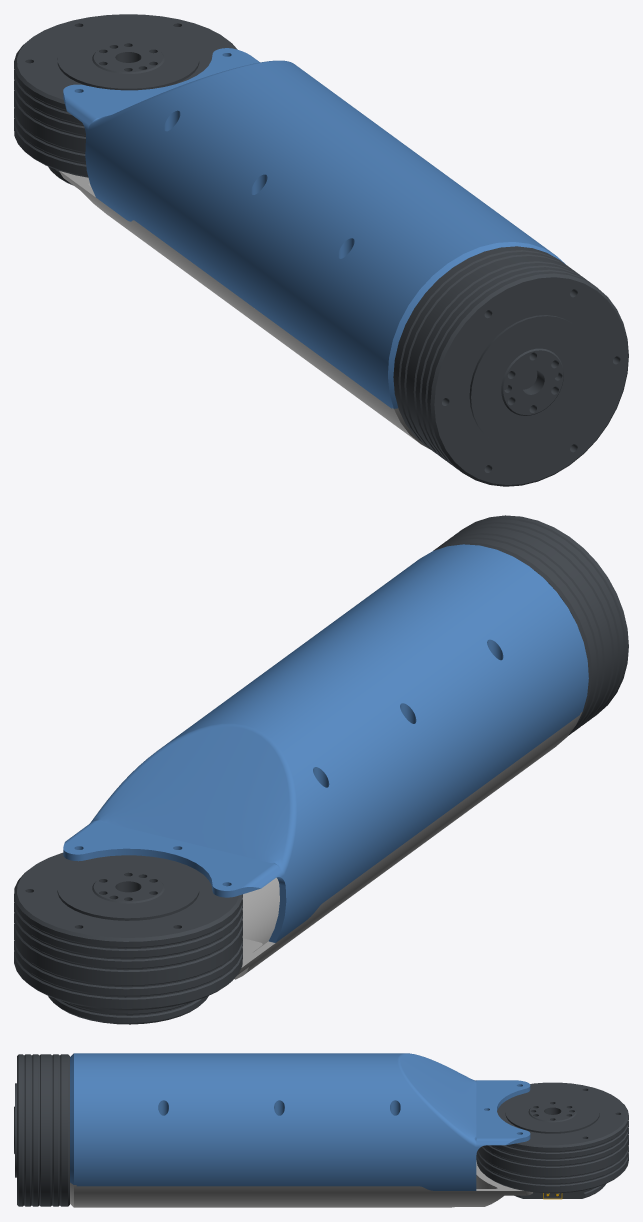
File: r_upper_arm_link.dae
3 renders of one model, top to bottom at view 1: azimuth 30°, elevation 25°; view 2: azimuth 150°, elevation 25°; view 3: azimuth 270°, elevation 25°, orthographic. The views are drawn at different scales.
Parts seen in each view (by area): view 1: upper_arm_cover, AK60-6V1-1 (×2), arm_upper_link; view 2: upper_arm_cover, AK60-6V1-1 (×2), arm_upper_link; view 3: upper_arm_cover, AK60-6V1-1 (×2), arm_upper_link.
Boxes of the visible parts, bbox=[...] form: upper_arm_cover: bbox=[63, 48, 565, 408]; AK60-6V1-1 (×2): bbox=[14, 14, 628, 486]; arm_upper_link: bbox=[59, 171, 428, 448]; upper_arm_cover: bbox=[63, 544, 588, 942]; AK60-6V1-1 (×2): bbox=[14, 515, 628, 1024]; arm_upper_link: bbox=[234, 712, 582, 979]; upper_arm_cover: bbox=[70, 1053, 530, 1190]; AK60-6V1-1 (×2): bbox=[14, 1054, 628, 1206]; arm_upper_link: bbox=[70, 1160, 532, 1207].
Bounding box in the file's own units: 0.08 × 0.08 × 0.3185.
